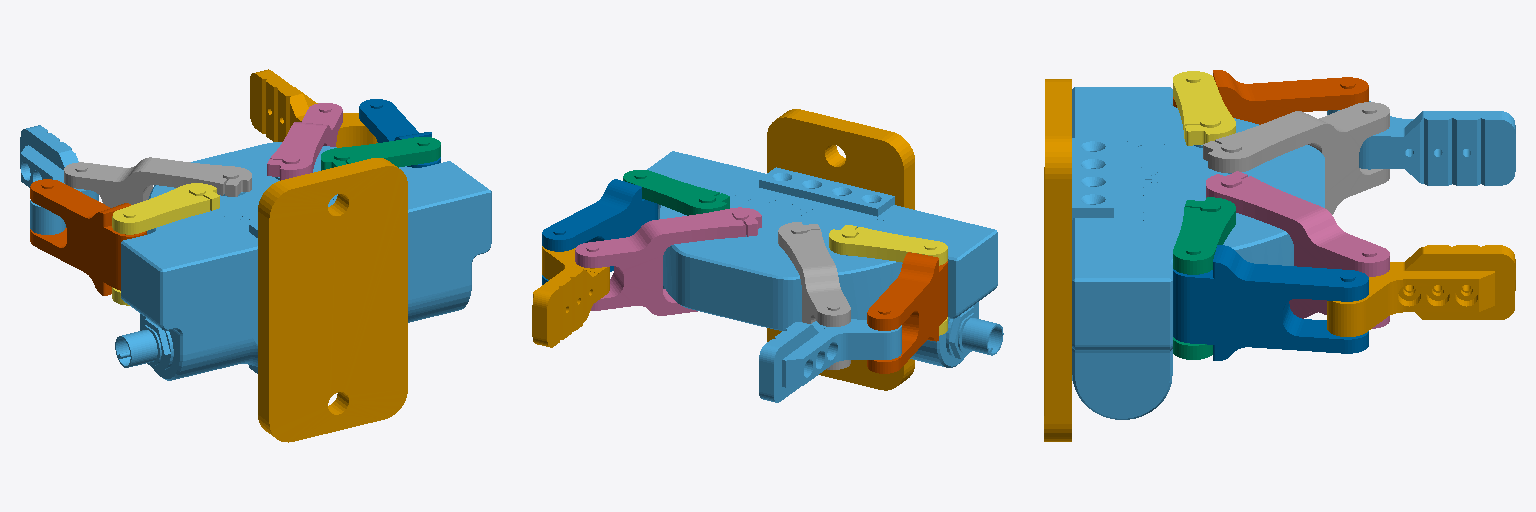
The robot description file, URDF, robot "sisbot":
<?xml version="1.0" ?>
<!-- =================================================================================== -->
<!-- |    This document was autogenerated by xacro from sisbot.xacro                   | -->
<!-- |    EDITING THIS FILE BY HAND IS NOT RECOMMENDED                                 | -->
<!-- =================================================================================== -->
<robot name="sisbot" xmlns:xacro="http://ros.org/wiki/xacro">
  <!--################################################
  ########              arm                    #######
  ####################################################-->

  <link name="base_link">
    <visual>
      <geometry>
        <mesh filename="../meshes/ur5/visual/base.obj"/>
      </geometry>
      <material name="LightGrey">
        <color rgba="0.7 0.7 0.7 1.0"/>
      </material>
    </visual>
    <collision>
      <geometry>
        <mesh filename="../meshes/ur5/collision/base.stl"/>
      </geometry>
    </collision>
    <inertial>
      <mass value="4.0"/>
      <origin rpy="0 0 0" xyz="0.0 0.0 0.0"/>
      <inertia ixx="0.00443333156" ixy="0.0" ixz="0.0" iyy="0.00443333156" iyz="0.0" izz="0.0072"/>
    </inertial>
  </link>

  <joint name="shoulder_pan_joint" type="revolute">
    <parent link="base_link"/>
    <child link="shoulder_link"/>
    <origin rpy="0.0 0.0 0.0" xyz="0.0 0.0 0.089159"/>
    <axis xyz="0 0 1"/>
    <limit effort="150.0" lower="-3.14159265359" upper="3.14159265359" velocity="3.15"/>
    <dynamics damping="0.0" friction="0.0"/>
  </joint>
  <link name="shoulder_link">
    <visual>
      <geometry>
        <mesh filename="../meshes/ur5/visual/shoulder.obj"/>
      </geometry>
      <material name="LightGrey">
        <color rgba="0.7 0.7 0.7 1.0"/>
      </material>
    </visual>
    <collision>
      <geometry>
        <mesh filename="../meshes/ur5/collision/shoulder.stl"/>
      </geometry>
    </collision>
    <inertial>
      <mass value="3.7"/>
      <origin rpy="0 0 0" xyz="0.0 0.0 0.0"/>
      <inertia ixx="0.010267495893" ixy="0.0" ixz="0.0" iyy="0.010267495893" iyz="0.0" izz="0.00666"/>
    </inertial>
  </link>
  <joint name="shoulder_lift_joint" type="revolute">
    <parent link="shoulder_link"/>
    <child link="upper_arm_link"/>
    <origin rpy="0.0 1.57079632679 0.0" xyz="0.0 0.13585 0.0"/>
    <axis xyz="0 1 0"/>
    <limit effort="150.0" lower="-3.14159265359" upper="3.14159265359" velocity="3.15"/>
    <dynamics damping="0.0" friction="0.0"/>
  </joint>
  <link name="upper_arm_link">
    <visual>
      <geometry>
        <mesh filename="../meshes/ur5/visual/upperarm.obj"/>
      </geometry>
      <material name="LightGrey">
        <color rgba="0.7 0.7 0.7 1.0"/>
      </material>
    </visual>
    <collision>
      <geometry>
        <mesh filename="../meshes/ur5/collision/upperarm.stl"/>
      </geometry>
    </collision>
    <inertial>
      <mass value="8.393"/>
      <origin rpy="0 0 0" xyz="0.0 0.0 0.28"/>
      <inertia ixx="0.22689067591" ixy="0.0" ixz="0.0" iyy="0.22689067591" iyz="0.0" izz="0.0151074"/>
    </inertial>
  </link>
  <joint name="elbow_joint" type="revolute">
    <parent link="upper_arm_link"/>
    <child link="forearm_link"/>
    <origin rpy="0.0 0.0 0.0" xyz="0.0 -0.1197 0.425"/>
    <axis xyz="0 1 0"/>
    <limit effort="150.0" lower="-3.14159265359" upper="3.14159265359" velocity="3.15"/>
    <dynamics damping="0.0" friction="0.0"/>
  </joint>
  <link name="forearm_link">
    <visual>
      <geometry>
        <mesh filename="../meshes/ur5/visual/forearm.obj"/>
      </geometry>
      <material name="LightGrey">
        <color rgba="0.7 0.7 0.7 1.0"/>
      </material>
    </visual>
    <collision>
      <geometry>
        <mesh filename="../meshes/ur5/collision/forearm.stl"/>
      </geometry>
    </collision>
    <inertial>
      <mass value="2.275"/>
      <origin rpy="0 0 0" xyz="0.0 0.0 0.25"/>
      <inertia ixx="0.049443313556" ixy="0.0" ixz="0.0" iyy="0.049443313556" iyz="0.0" izz="0.004095"/>
    </inertial>
  </link>
  <joint name="wrist_1_joint" type="revolute">
    <parent link="forearm_link"/>
    <child link="wrist_1_link"/>
    <origin rpy="0.0 1.57079632679 0.0" xyz="0.0 0.0 0.39225"/>
    <axis xyz="0 1 0"/>
    <limit effort="28.0" lower="-3.14159265359" upper="3.14159265359" velocity="3.2"/>
    <dynamics damping="0.0" friction="0.0"/>
  </joint>
  <link name="wrist_1_link">
    <visual>
      <geometry>
        <mesh filename="../meshes/ur5/visual/wrist1.obj"/>
      </geometry>
      <material name="LightGrey">
        <color rgba="0.7 0.7 0.7 1.0"/>
      </material>
    </visual>
    <collision>
      <geometry>
        <mesh filename="../meshes/ur5/collision/wrist1.stl"/>
      </geometry>
    </collision>
    <inertial>
      <mass value="1.219"/>
      <origin rpy="0 0 0" xyz="0.0 0.0 0.0"/>
      <inertia ixx="0.111172755531" ixy="0.0" ixz="0.0" iyy="0.111172755531" iyz="0.0" izz="0.21942"/>
    </inertial>
  </link>
  <joint name="wrist_2_joint" type="revolute">
    <parent link="wrist_1_link"/>
    <child link="wrist_2_link"/>
    <origin rpy="0.0 0.0 0.0" xyz="0.0 0.093 0.0"/>
    <axis xyz="0 0 1"/>
    <limit effort="28.0" lower="-3.14159265359" upper="3.14159265359" velocity="3.2"/>
    <dynamics damping="0.0" friction="0.0"/>
  </joint>
  <link name="wrist_2_link">
    <visual>
      <geometry>
        <mesh filename="../meshes/ur5/visual/wrist2.obj"/>
      </geometry>
      <material name="LightGrey">
        <color rgba="0.7 0.7 0.7 1.0"/>
      </material>
    </visual>
    <collision>
      <geometry>
        <mesh filename="../meshes/ur5/collision/wrist2.stl"/>
      </geometry>
    </collision>
    <inertial>
      <mass value="1.219"/>
      <origin rpy="0 0 0" xyz="0.0 0.0 0.0"/>
      <inertia ixx="0.111172755531" ixy="0.0" ixz="0.0" iyy="0.111172755531" iyz="0.0" izz="0.21942"/>
    </inertial>
  </link>
  <joint name="wrist_3_joint" type="revolute">
    <parent link="wrist_2_link"/>
    <child link="wrist_3_link"/>
    <origin rpy="0.0 0.0 0.0" xyz="0.0 0.0 0.09465"/>
    <axis xyz="0 1 0"/>
    <limit effort="28.0" lower="-3.14159265359" upper="3.14159265359" velocity="3.2"/>
    <dynamics damping="0.0" friction="0.0"/>
  </joint>
  <link name="wrist_3_link">
    <visual>
      <geometry>
        <mesh filename="../meshes/ur5/visual/wrist3.obj"/>
      </geometry>
      <material name="LightGrey">
        <color rgba="0.7 0.7 0.7 1.0"/>
      </material>
    </visual>
    <collision>
      <geometry>
        <mesh filename="../meshes/ur5/collision/wrist3.stl"/>
      </geometry>
    </collision>
    <inertial>
      <mass value="0.1879"/>
      <origin rpy="0 0 0" xyz="0.0 0.0 0.0"/>
      <inertia ixx="0.0171364731454" ixy="0.0" ixz="0.0" iyy="0.0171364731454" iyz="0.0" izz="0.033822"/>
    </inertial>
  </link>
  <joint name="ee_fixed_joint" type="fixed">
    <parent link="wrist_3_link"/>
    <child link="ee_link"/>
    <origin rpy="0.0 0.0 1.57079632679" xyz="0.0 0.0823 0.0"/>
  </joint>
  <link name="ee_link">
    <collision>
      <geometry>
        <box size="0.01 0.01 0.01"/>
      </geometry>
      <origin rpy="0 0 0" xyz="-0.01 0 0"/>
    </collision>
  </link>

  <!--################################################
  ########              gripper                  #####
  ####################################################-->

  <link name="robotiq_85_adapter_link">
    <visual>
      <geometry>
        <mesh filename="../meshes/robotiq_c2/visual/robotiq_85_gripper_adapter_plate.obj"/>
      </geometry>
      <origin rpy="1.5707 0 1.5707" xyz="0 0 0"/>
    </visual>
    <collision>
      <geometry>
        <mesh filename="../meshes/robotiq_c2/collision/robotiq_85_gripper_adapter_plate.stl"/>
      </geometry>
      <origin rpy="0 0 1.5707" xyz="0 0 0"/>
    </collision>
  </link>
  <joint name="robotiq_85_base_joint" type="fixed">
    <parent link="robotiq_85_adapter_link"/>
    <child link="robotiq_85_base_link"/>
    <axis xyz="1 0 0"/>
    <origin rpy="0 0 0" xyz=".0085 0 -.0041"/>
  </joint>
  <link name="robotiq_85_base_link">
    <visual>
      <geometry>
        <mesh filename="../meshes/robotiq_c2/visual/robotiq_85_gripper_base.obj"/>
      </geometry>
      <origin rpy="3.1415 0 1.5707" xyz="0 0 0"/>
    </visual>
    <collision>
      <geometry>
        <mesh filename="../meshes/robotiq_c2/collision/robotiq_85_gripper_base.stl"/>
      </geometry>
      <origin rpy="1.5707 0 1.5707" xyz="0 0 0"/>
    </collision>
  </link>
  <joint name="robotiq_85_left_knuckle_joint" type="fixed">
    <parent link="robotiq_85_base_link"/>
    <child link="robotiq_85_left_knuckle_link"/>
    <axis xyz="1 0 0"/>
    <origin rpy="-1.5707 1.5707 0" xyz="0.04191 0.0306 0"/>
    <limit effort="1000" lower="0" upper="0.343" velocity="2.0"/> <!-- upperLimit modified by johnson -->
  </joint>
  <joint name="robotiq_85_right_knuckle_joint" type="fixed">
    <parent link="robotiq_85_base_link"/>
    <child link="robotiq_85_right_knuckle_link"/>
    <axis xyz="1 0 0"/>
    <origin rpy="1.5707 -1.5707 0" xyz=".04191 -.0306 0"/>
    <limit effort="1000" lower="0" upper="1.5707" velocity="2.0"/>
    <mimic joint="robotiq_85_left_knuckle_joint" multiplier="1"/>
  </joint>
  <link name="robotiq_85_left_knuckle_link">
    <visual>
      <geometry>
        <mesh filename="../meshes/robotiq_c2/visual/robotiq_85_gripper_joint_0_L.obj"/>
      </geometry>
      <origin rpy="3.14159 -1.5707 0" xyz="0 .04191 -.0306"/>
    </visual>
    <collision>
      <geometry>
        <mesh filename="../meshes/robotiq_c2/collision/robotiq_85_gripper_joint_0_L.stl"/>
      </geometry>
      <origin rpy="1.5707 -1.5707 0" xyz="0 .04191 -.0306"/>
    </collision>
  </link>
  <link name="robotiq_85_right_knuckle_link">
    <visual>
      <geometry>
        <mesh filename="../meshes/robotiq_c2/visual/robotiq_85_gripper_joint_0_R.obj"/>
      </geometry>
      <origin rpy="3.14159 1.5707 0" xyz="0 .04191 -.0306"/>
    </visual>
    <collision>
      <geometry>
        <mesh filename="../meshes/robotiq_c2/collision/robotiq_85_gripper_joint_0_R.stl"/>
      </geometry>
      <origin rpy="1.5707 1.5707 0" xyz="0 .04191 -.0306"/>
    </collision>
  </link>
  <joint name="robotiq_85_left_finger_joint" type="fixed">
    <parent link="robotiq_85_left_knuckle_link"/>
    <child link="robotiq_85_left_finger_link"/>
    <axis xyz="1 0 0"/>
    <origin rpy="3.1415 0 0" xyz="0 .00508 .03134"/>
    <limit effort="1000" lower="0" upper="1.5707" velocity="2.0"/>
  </joint>
  <joint name="robotiq_85_right_finger_joint" type="fixed">
    <parent link="robotiq_85_right_knuckle_link"/>
    <child link="robotiq_85_right_finger_link"/>
    <axis xyz="1 0 0"/>
    <origin rpy="3.1415 0 0" xyz="0 .00508 .03134"/>
    <limit effort="1000" lower="0" upper="1.5707" velocity="2.0"/>
  </joint>
  <link name="robotiq_85_left_finger_link">
    <visual>
      <geometry>
        <mesh filename="../meshes/robotiq_c2/visual/robotiq_85_gripper_joint_1_L.obj"/>
      </geometry>
      <origin rpy="0 1.5707 0" xyz="0 -.03683 .06194"/>
    </visual>
    <collision>
      <geometry>
        <mesh filename="../meshes/robotiq_c2/collision/robotiq_85_gripper_joint_1_L.stl"/>
      </geometry>
      <origin rpy="-1.5707 1.5707 0" xyz="0 -.03683 .06194"/>
    </collision>
  </link>
  <link name="robotiq_85_right_finger_link">
    <visual>
      <geometry>
        <mesh filename="../meshes/robotiq_c2/visual/robotiq_85_gripper_joint_1_R.obj"/>
      </geometry>
      <origin rpy="0 -1.5707 0" xyz="0 -.03683 .06194"/>
    </visual>
    <collision>
      <geometry>
        <mesh filename="../meshes/robotiq_c2/collision/robotiq_85_gripper_joint_1_R.stl"/>
      </geometry>
      <origin rpy="-1.5707 -1.5707 0" xyz="0 -.03683 .06194"/>
    </collision>
  </link>
  <joint name="robotiq_85_left_inner_knuckle_joint" type="revolute">
    <parent link="robotiq_85_base_link"/>
    <child link="robotiq_85_left_inner_knuckle_link"/>
    <axis xyz="1 0 0"/>
    <origin rpy="1.5707 1.5707 0" xyz=".04843 .0127 0"/>
    <limit effort="1000" lower="0" upper="1.5707" velocity="2.0"/>
    <mimic joint="robotiq_85_left_knuckle_joint" offset="0"/>
  </joint>
  <joint name="robotiq_85_right_inner_knuckle_joint" type="revolute">
    <parent link="robotiq_85_base_link"/>
    <child link="robotiq_85_right_inner_knuckle_link"/>
    <axis xyz="1 0 0"/>
    <origin rpy="-1.5707 -1.5707 0" xyz=".04843 -.0127 0"/>
    <limit effort="1000" lower="0" upper="1.5707" velocity="2.0"/>
    <mimic joint="robotiq_85_left_knuckle_joint" offset="0"/>
  </joint>
  <link name="robotiq_85_left_inner_knuckle_link">
    <visual>
      <geometry>
        <mesh filename="../meshes/robotiq_c2/visual/robotiq_85_gripper_joint_2_L.obj"/>
      </geometry>
      <origin rpy="0 1.5707 0" xyz="0 -.04843 .0127"/>
    </visual>
    <collision>
      <geometry>
        <mesh filename="../meshes/robotiq_c2/collision/robotiq_85_gripper_joint_2_L.stl"/>
      </geometry>
      <origin rpy="-1.5707 1.5707 0" xyz="0 -.04843 .0127"/>
    </collision>
  </link>
  <link name="robotiq_85_right_inner_knuckle_link">
    <visual>
      <geometry>
        <mesh filename="../meshes/robotiq_c2/visual/robotiq_85_gripper_joint_2_R.obj"/>
      </geometry>
      <origin rpy="0 -1.5707 0" xyz="0 -.04843 .0127"/>
    </visual>
    <collision>
      <geometry>
        <mesh filename="../meshes/robotiq_c2/collision/robotiq_85_gripper_joint_2_R.stl"/>
      </geometry>
      <origin rpy="-1.5707 -1.5707 0" xyz="0 -.04843 .0127"/>
    </collision>
  </link>
  <joint name="robotiq_85_left_finger_tip_joint" type="revolute">
    <parent link="robotiq_85_left_inner_knuckle_link"/>
    <child link="robotiq_85_left_finger_tip_link"/>
    <axis xyz="1 0 0"/>
    <origin rpy="0 0 0" xyz="0 .04196 -.0388"/>
    <limit effort="1000" lower="0" upper="1.5707" velocity="2.0"/>
    <mimic joint="robotiq_85_left_knuckle_joint" multiplier="-1"/>
  </joint>
  <joint name="robotiq_85_right_finger_tip_joint" type="revolute">
    <parent link="robotiq_85_right_inner_knuckle_link"/>
    <child link="robotiq_85_right_finger_tip_link"/>
    <axis xyz="1 0 0"/>
    <origin rpy="0 0 0" xyz="0 .04196 -.0388"/>
    <limit effort="1000" lower="0" upper="1.5707" velocity="2.0"/>
    <mimic joint="robotiq_85_left_knuckle_joint" multiplier="-1"/>
  </joint>
  <link name="robotiq_85_left_finger_tip_link">
    <visual>
      <geometry>
        <mesh filename="../meshes/robotiq_c2/visual/robotiq_85_gripper_joint_3_L.obj"/>
      </geometry>
      <origin rpy="0 1.5707 0" xyz="0 -.090381 .051505"/>
    </visual>
    <collision>
      <geometry>
        <mesh filename="../meshes/robotiq_c2/collision/robotiq_85_gripper_joint_3_L.stl"/>
      </geometry>
      <origin rpy="-1.5707 1.5707 0" xyz="0 -.090381 .051505"/>
    </collision>
  </link>
  <link name="robotiq_85_right_finger_tip_link">
    <visual>
      <geometry>
        <mesh filename="../meshes/robotiq_c2/visual/robotiq_85_gripper_joint_3_R.obj"/>
      </geometry>
      <origin rpy="0 -1.5707 0" xyz="0 -.090381 .051505"/>
    </visual>
    <collision>
      <geometry>
        <mesh filename="../meshes/robotiq_c2/collision/robotiq_85_gripper_joint_3_R.stl"/>
      </geometry>
      <origin rpy="-1.5707 -1.5707 0" xyz="0 -.090381 .051505"/>
    </collision>
  </link>

  <!--################################################
  ########          connect model                #####
  ####################################################-->

  <!-- connect arm to world -->
  <link name="world"/>
  <joint name="world_joint" type="fixed">
    <parent link="world"/>
    <child link="base_link"/>
    <origin rpy="0.0 0.0 0" xyz="0.0 0.0 0.1"/>
  </joint>
  <!-- connect gripper to arm -->
  <joint name="arm_gripper_joint" type="fixed">
    <parent link="wrist_3_link"/>
    <child link="robotiq_85_adapter_link"/>
    <origin rpy="0.0 0.0 1.5708" xyz="0.0 0.089 0.0"/>
  </joint>

</robot>

--- Facts derived from the render (not from the file) ---
3 views of the same robot in one strip: view 1: azimuth 30°, elevation 25°; view 2: azimuth 150°, elevation 25°; view 3: azimuth 270°, elevation 25° (orthographic).
Robot: sisbot — 19 links, 18 joints (10 revolute, 8 fixed); root link world; default pose: all joints at 0.
Links seen in each view (by area): view 1: robotiq_85_adapter_link, robotiq_85_base_link, robotiq_85_right_finger_link, robotiq_85_right_inner_knuckle_link, robotiq_85_left_finger_tip_link, robotiq_85_right_finger_tip_link, robotiq_85_left_inner_knuckle_link, robotiq_85_right_knuckle_link, robotiq_85_left_knuckle_link, robotiq_85_left_finger_link; view 2: robotiq_85_base_link, robotiq_85_adapter_link, robotiq_85_left_inner_knuckle_link, robotiq_85_right_finger_tip_link, robotiq_85_right_finger_link, robotiq_85_left_finger_tip_link, robotiq_85_right_inner_knuckle_link, robotiq_85_left_finger_link, robotiq_85_right_knuckle_link, robotiq_85_left_knuckle_link; view 3: robotiq_85_base_link, robotiq_85_left_finger_link, robotiq_85_left_finger_tip_link, robotiq_85_adapter_link, robotiq_85_right_finger_tip_link, robotiq_85_right_inner_knuckle_link, robotiq_85_left_inner_knuckle_link, robotiq_85_right_finger_link, robotiq_85_left_knuckle_link, robotiq_85_right_knuckle_link.
Link boxes in pixels (left/top/right/bottom): robotiq_85_adapter_link: left=258, top=158, right=407, bottom=442; robotiq_85_base_link: left=115, top=142, right=491, bottom=380; robotiq_85_right_finger_link: left=30, top=179, right=146, bottom=295; robotiq_85_right_inner_knuckle_link: left=64, top=157, right=251, bottom=227; robotiq_85_left_finger_tip_link: left=250, top=69, right=377, bottom=147; robotiq_85_right_finger_tip_link: left=20, top=125, right=98, bottom=234; robotiq_85_left_inner_knuckle_link: left=267, top=103, right=342, bottom=180; robotiq_85_right_knuckle_link: left=112, top=183, right=219, bottom=305; robotiq_85_left_knuckle_link: left=321, top=137, right=440, bottom=170; robotiq_85_left_finger_link: left=359, top=99, right=440, bottom=167; robotiq_85_base_link: left=647, top=151, right=1003, bottom=367; robotiq_85_adapter_link: left=767, top=109, right=914, bottom=390; robotiq_85_left_inner_knuckle_link: left=575, top=207, right=761, bottom=315; robotiq_85_right_finger_tip_link: left=759, top=319, right=901, bottom=402; robotiq_85_right_finger_link: left=867, top=252, right=947, bottom=373; robotiq_85_left_finger_tip_link: left=532, top=246, right=609, bottom=347; robotiq_85_right_inner_knuckle_link: left=778, top=222, right=850, bottom=369; robotiq_85_left_finger_link: left=542, top=179, right=657, bottom=284; robotiq_85_right_knuckle_link: left=829, top=225, right=947, bottom=335; robotiq_85_left_knuckle_link: left=623, top=170, right=729, bottom=215; robotiq_85_base_link: left=1072, top=87, right=1324, bottom=419; robotiq_85_left_finger_link: left=1173, top=245, right=1368, bottom=360; robotiq_85_left_finger_tip_link: left=1327, top=245, right=1515, bottom=336; robotiq_85_adapter_link: left=1044, top=79, right=1071, bottom=441; robotiq_85_right_finger_tip_link: left=1327, top=101, right=1515, bottom=185; robotiq_85_right_inner_knuckle_link: left=1203, top=102, right=1389, bottom=214; robotiq_85_left_inner_knuckle_link: left=1206, top=171, right=1389, bottom=328; robotiq_85_right_finger_link: left=1173, top=70, right=1368, bottom=124; robotiq_85_left_knuckle_link: left=1173, top=197, right=1235, bottom=359; robotiq_85_right_knuckle_link: left=1173, top=71, right=1235, bottom=145.
Size in the robot's own frame: 0.1529 by 0.1434 by 0.102 metres.
10 mesh visuals loaded from 17 distinct referenced files (10 OBJ); not drawn: 7 (reference not matched to a file when rendering).
